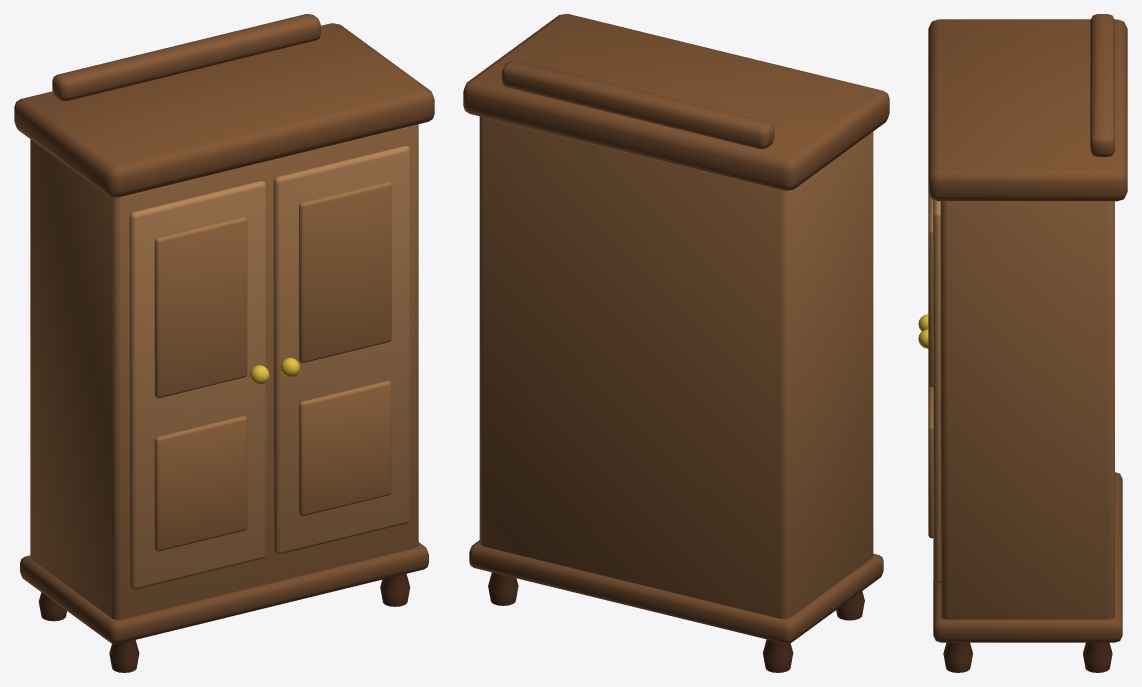
The model's file is farm-wardrobe.glb.
The picture shows the model from 3 angles, left to right: view 1: azimuth 30°, elevation 25°; view 2: azimuth 150°, elevation 25°; view 3: azimuth 270°, elevation 25°; orthographic projection. The views are drawn at different scales.
Parts seen in each view (by area): view 1: farm-wardrobe; view 2: farm-wardrobe; view 3: farm-wardrobe.
Part boxes in pixels (x1,y1,x2,y2): farm-wardrobe: (14,14,434,672); farm-wardrobe: (463,14,889,672); farm-wardrobe: (918,14,1127,672).
Bounding box in the file's own units: 1.5 × 2.34 × 0.84.
